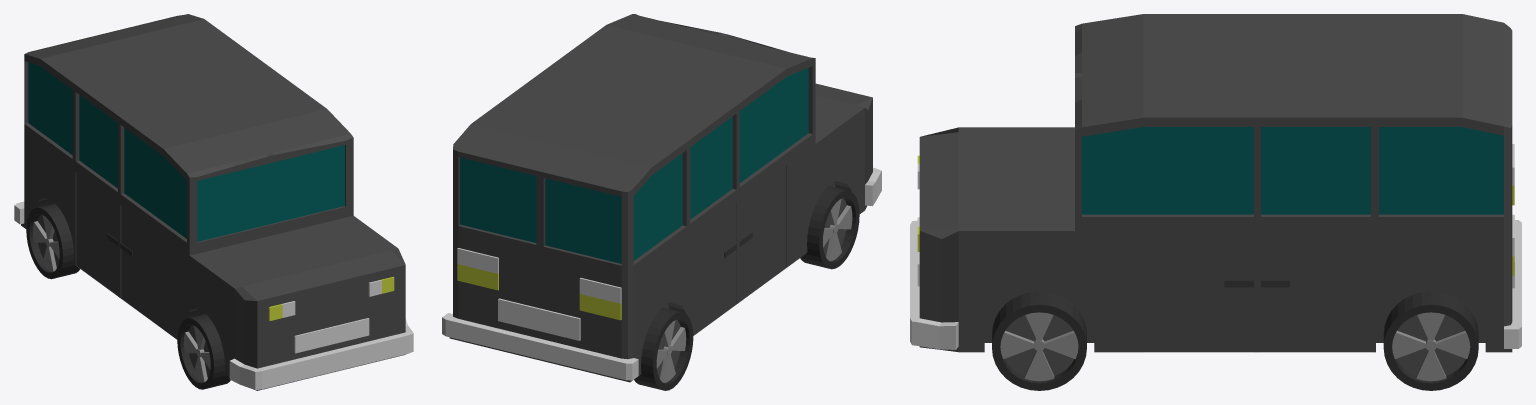
File: truck.fbx
3 renders of one model, left to right at view 1: azimuth 30°, elevation 25°; view 2: azimuth 150°, elevation 25°; view 3: azimuth 270°, elevation 25°, orthographic. The views are drawn at different scales.
Visible parts, largest first — view 1: Truck; view 2: Truck; view 3: Truck.
Part boxes in pixels (x1,y1,x2,y2): Truck: (14,14,413,390); Truck: (442,14,881,390); Truck: (910,14,1521,390).
Bounding box in the file's own units: 2.15 × 2.37 × 4.9.
